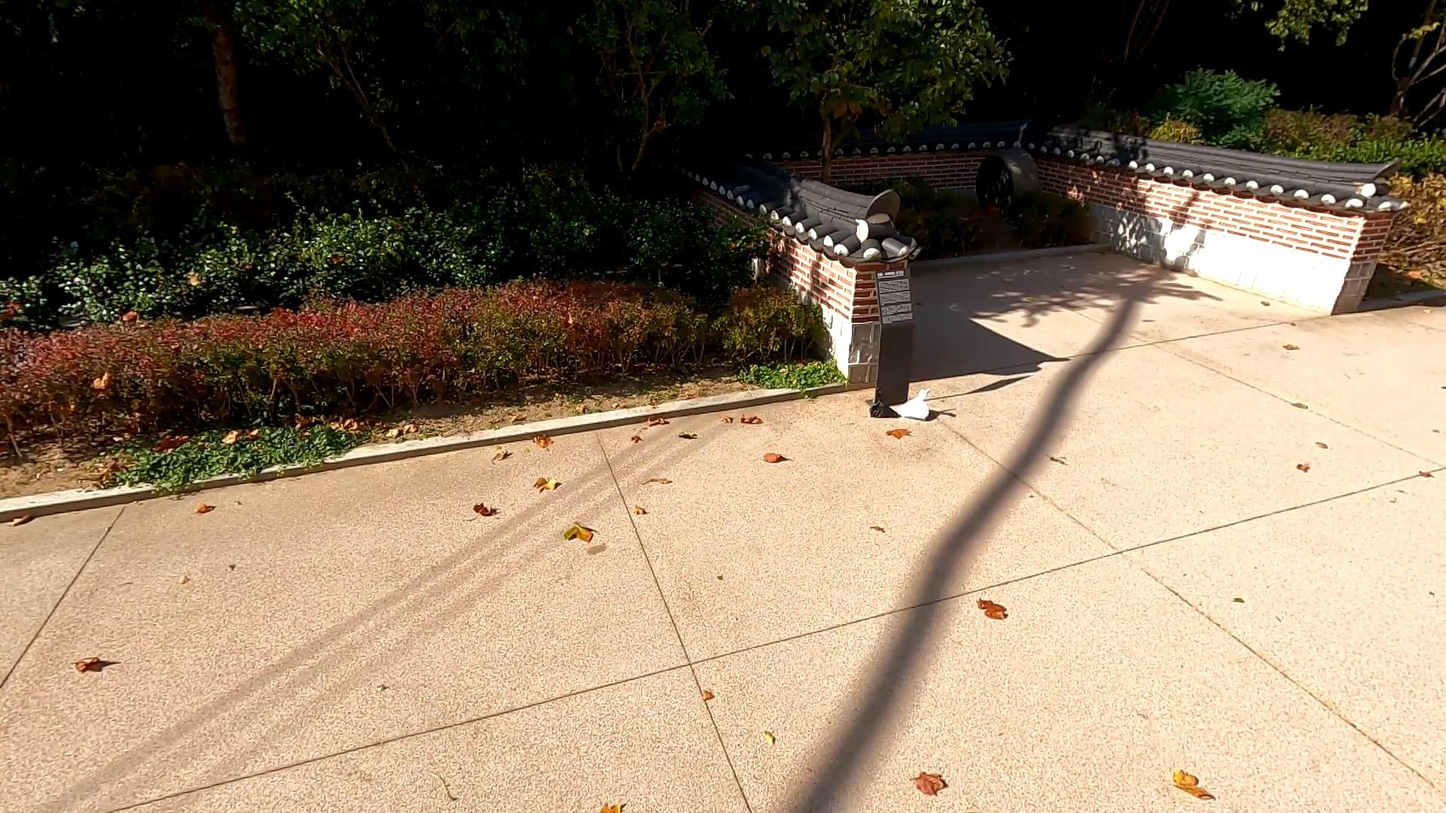trash: (893, 390, 931, 421), (863, 393, 894, 422)
